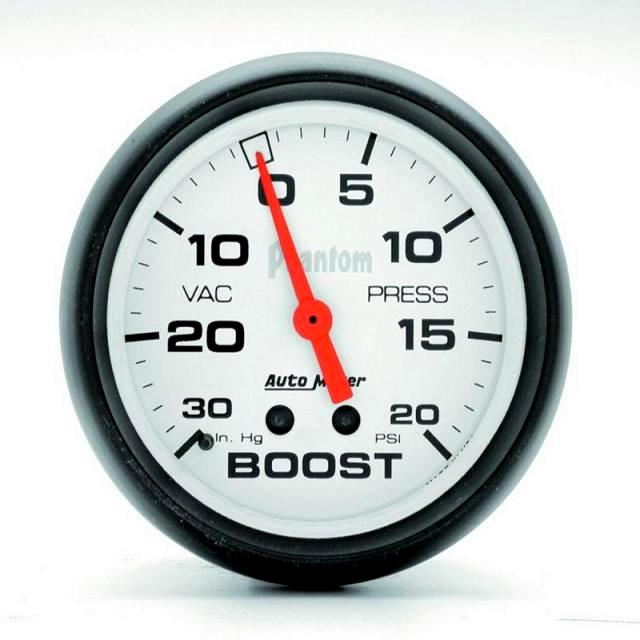Needle_Tip: (226, 128, 292, 202)
Needle_base: (278, 298, 343, 343)
max_value: (376, 391, 462, 451)
min_value: (159, 373, 256, 441)
